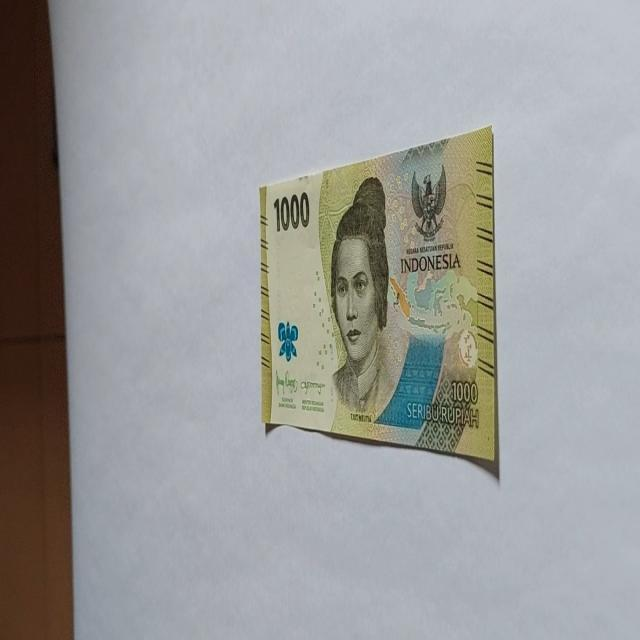seribu rupiah kertas: (258, 124, 498, 478)
